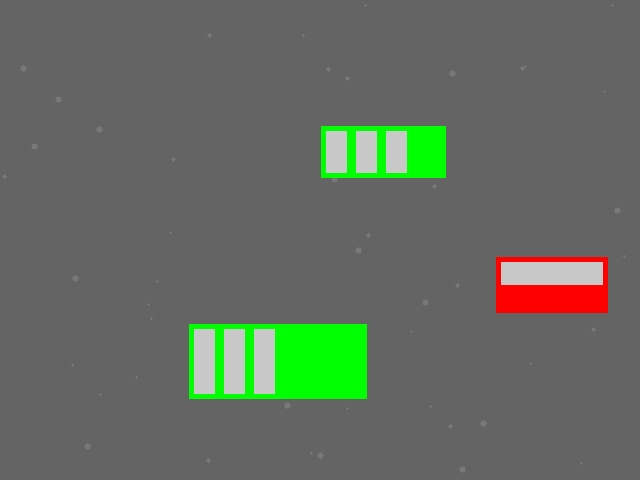bus: (189, 324, 366, 398), (321, 126, 445, 177)
car: (496, 257, 607, 312)
